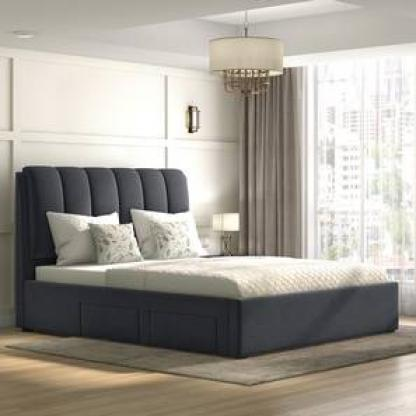Bed: (14, 164, 401, 340)
Curtains: (238, 67, 308, 257)
Futec frame: (0, 49, 240, 212)
Lamp: (208, 1, 287, 117), (213, 211, 241, 255)
Wooden floor: (0, 353, 416, 416)
